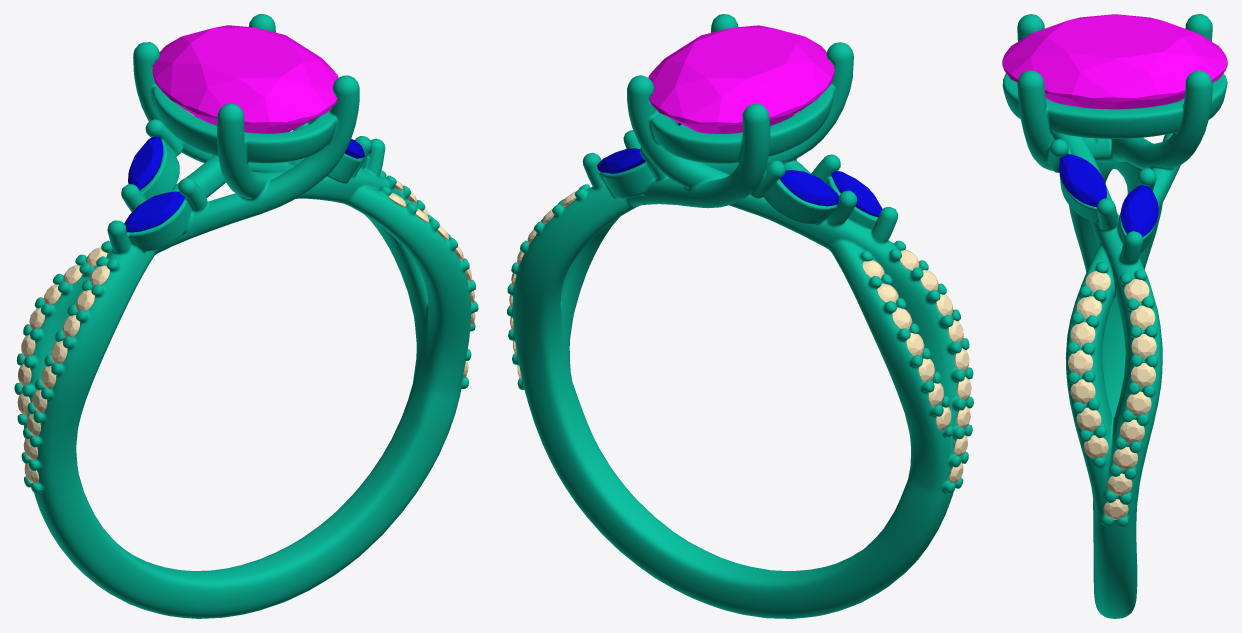
Rendered from BE104B_OV_200ct_RENDER.glb.
3 renders of one model, left to right at view 1: azimuth 30°, elevation 25°; view 2: azimuth 150°, elevation 25°; view 3: azimuth 270°, elevation 25°, orthographic.
Visible parts, largest first — view 1: Metal 01, CS_Diamond_Oval, Diamond_Marquise_side.002, Diamond_Marquise_side.003; view 2: Metal 01, CS_Diamond_Oval, Diamond_Marquise_side.003, Diamond_Marquise_side.002, Diamond_Marquise_side; view 3: Metal 01, CS_Diamond_Oval, Diamond_Marquise_side.001, Diamond_Marquise_side, Diamond_Round_Gem_SH.010, Diamond_Round_Gem_SH.012, Diamond_Round_Gem_SH.013, Diamond_Round_Gem_SH.005, Diamond_Round_Gem_SH.011, Diamond_Round_Gem_SH.009, Diamond_Round_Gem_SH.006, Diamond_Round_Gem_SH.014 (+8 smaller).
Boxes of the visible parts, x1=… form: Metal 01: x1=14, y1=14, x2=478, y2=618; CS_Diamond_Oval: x1=152, y1=25, x2=338, y2=133; Diamond_Marquise_side.002: x1=124, y1=191, x2=184, y2=232; Diamond_Marquise_side.003: x1=128, y1=136, x2=163, y2=190; Metal 01: x1=507, y1=14, x2=973, y2=618; CS_Diamond_Oval: x1=648, y1=25, x2=834, y2=133; Diamond_Marquise_side.003: x1=779, y1=170, x2=839, y2=206; Diamond_Marquise_side.002: x1=831, y1=171, x2=882, y2=216; Diamond_Marquise_side: x1=597, y1=148, x2=645, y2=173; Metal 01: x1=1002, y1=14, x2=1227, y2=618; CS_Diamond_Oval: x1=1002, y1=14, x2=1227, y2=109; Diamond_Marquise_side.001: x1=1059, y1=154, x2=1106, y2=207; Diamond_Marquise_side: x1=1120, y1=184, x2=1158, y2=236; Diamond_Round_Gem_SH.010: x1=1070, y1=379, x2=1095, y2=404; Diamond_Round_Gem_SH.012: x1=1131, y1=334, x2=1156, y2=358; Diamond_Round_Gem_SH.013: x1=1068, y1=350, x2=1092, y2=375; Diamond_Round_Gem_SH.005: x1=1126, y1=391, x2=1151, y2=416; Diamond_Round_Gem_SH.011: x1=1131, y1=363, x2=1155, y2=387; Diamond_Round_Gem_SH.009: x1=1076, y1=407, x2=1101, y2=431; Diamond_Round_Gem_SH.006: x1=1130, y1=305, x2=1155, y2=329; Diamond_Round_Gem_SH.014: x1=1070, y1=322, x2=1095, y2=346.
Bounding box in the file's own units: 20.64 × 24.63 × 9.
